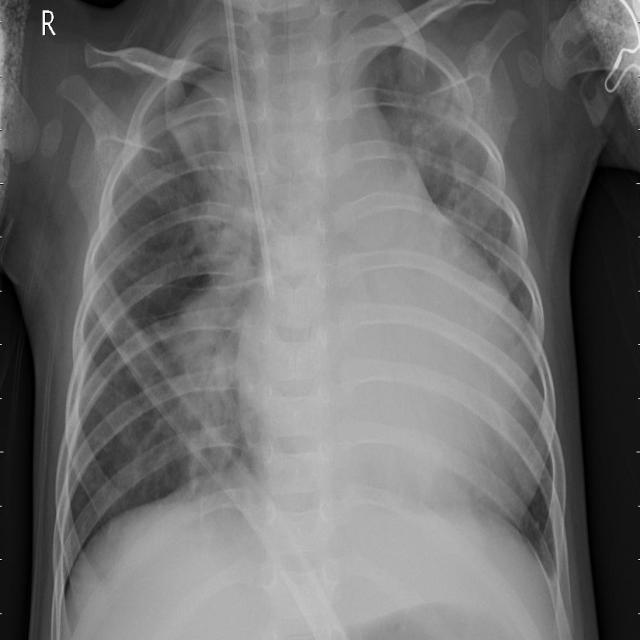high-pneumonia: (168, 72, 260, 288), (157, 299, 237, 475)
low-pneumonia: (399, 101, 498, 221)
